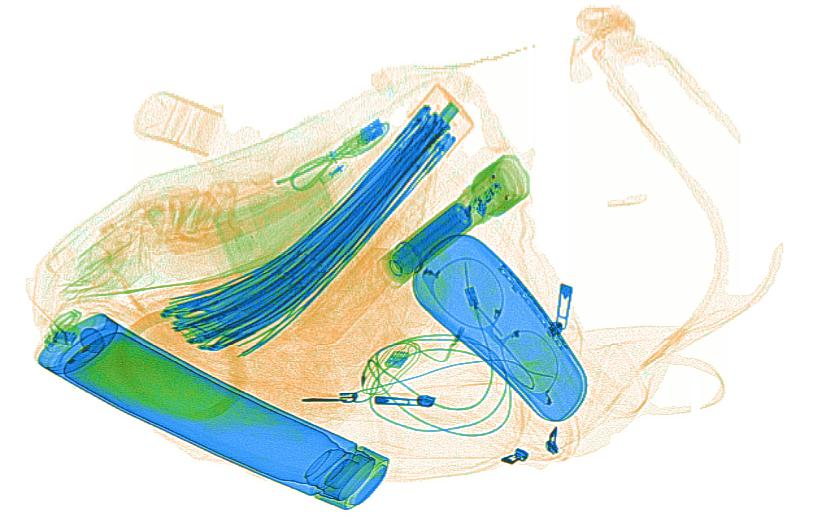battery: (393, 202, 473, 279)
